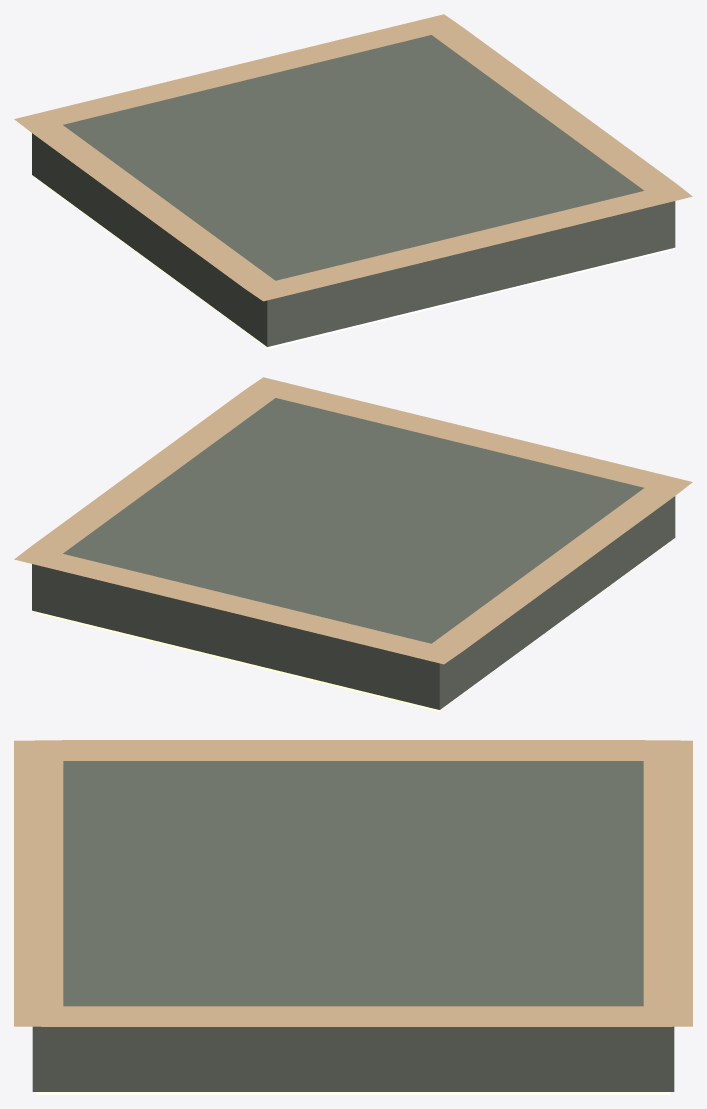
The model's file is ceilingLight.glb.
3 renders of one model, top to bottom at view 1: azimuth 30°, elevation 25°; view 2: azimuth 150°, elevation 25°; view 3: azimuth 270°, elevation 25°, orthographic. The views are drawn at different scales.
Visible parts, largest first — view 1: Plane.003, Plane.001, Plane.002; view 2: Plane.003, Plane.001, Plane.002; view 3: Plane.003, Plane.001, Plane.002.
Boxes of the visible parts, bbox=[...] form: Plane.003: bbox=[32, 35, 675, 346]; Plane.001: bbox=[14, 14, 692, 301]; Plane.002: bbox=[36, 178, 670, 348]; Plane.003: bbox=[32, 398, 675, 709]; Plane.001: bbox=[14, 377, 692, 664]; Plane.002: bbox=[36, 541, 670, 711]; Plane.003: bbox=[32, 761, 674, 1091]; Plane.001: bbox=[14, 740, 692, 1026]; Plane.002: bbox=[37, 1092, 669, 1094].
Size of the model in its own units: 2.16 by 0.2716 by 2.16.
